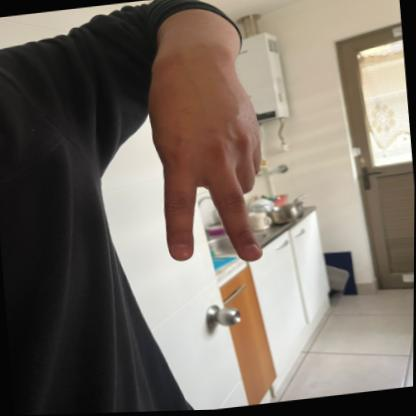N: (142, 31, 292, 278)
